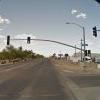Traffic light: (87, 23, 100, 39)
